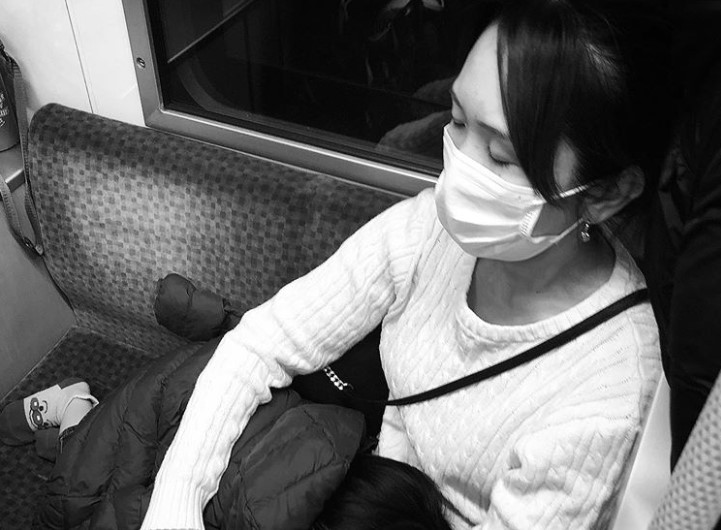face_with_mask: (430, 6, 657, 271)
